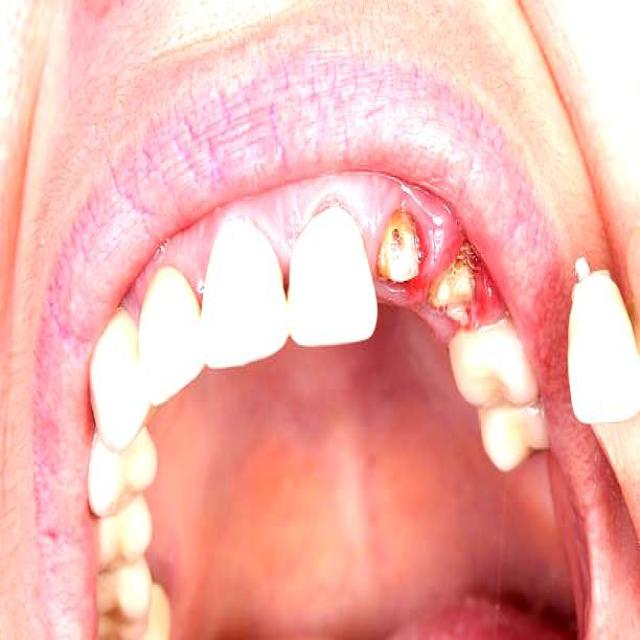caries: (371, 209, 421, 284), (432, 257, 474, 333)
